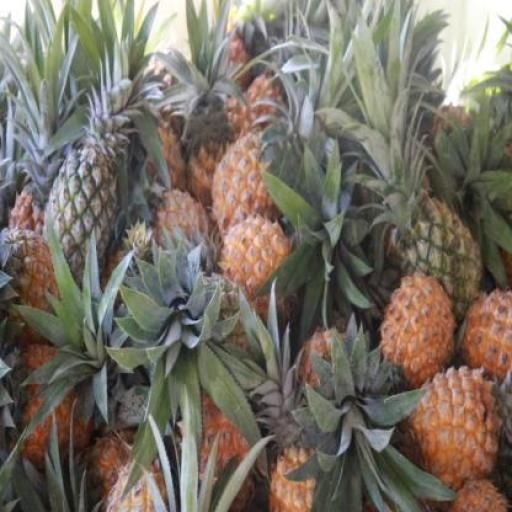Pineapple - v8 v1: (412, 369, 494, 495), (381, 278, 457, 393), (213, 144, 284, 246), (220, 221, 293, 309)
